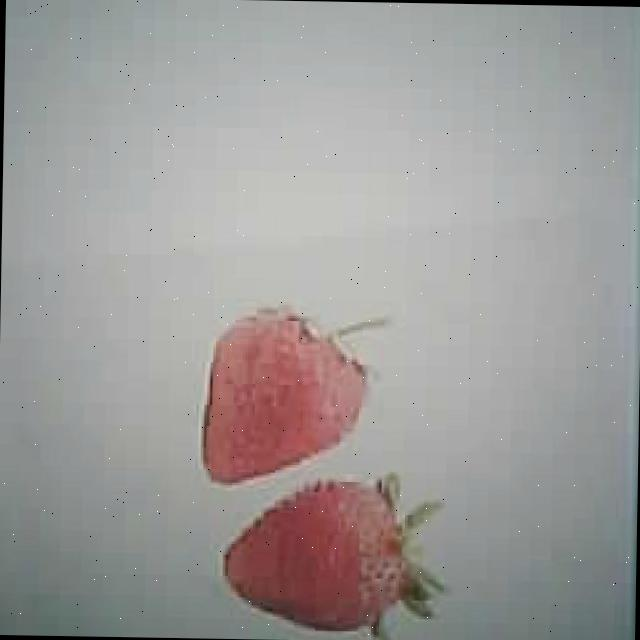strawberry: (201, 306, 368, 489), (224, 477, 404, 632)
